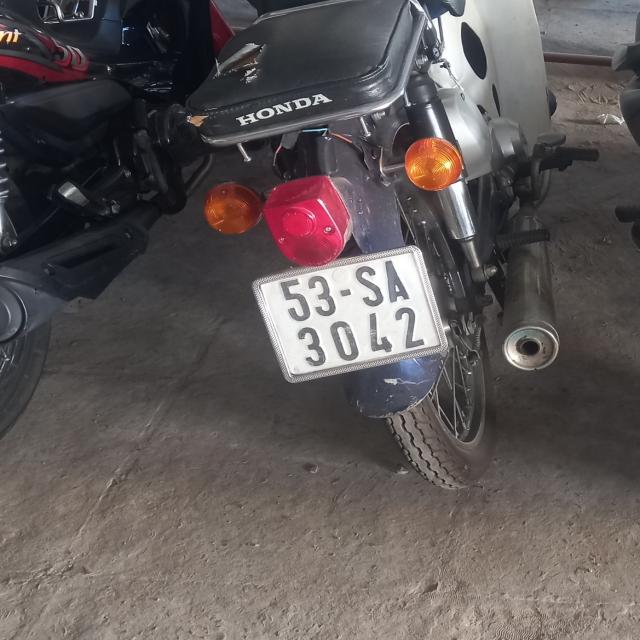0: (329, 320, 359, 362)
2: (395, 307, 427, 348)
3: (296, 326, 326, 366), (309, 275, 336, 316)
4: (367, 312, 392, 353)
5: (280, 279, 310, 321)
A: (383, 260, 411, 302)
S: (354, 266, 383, 309)
